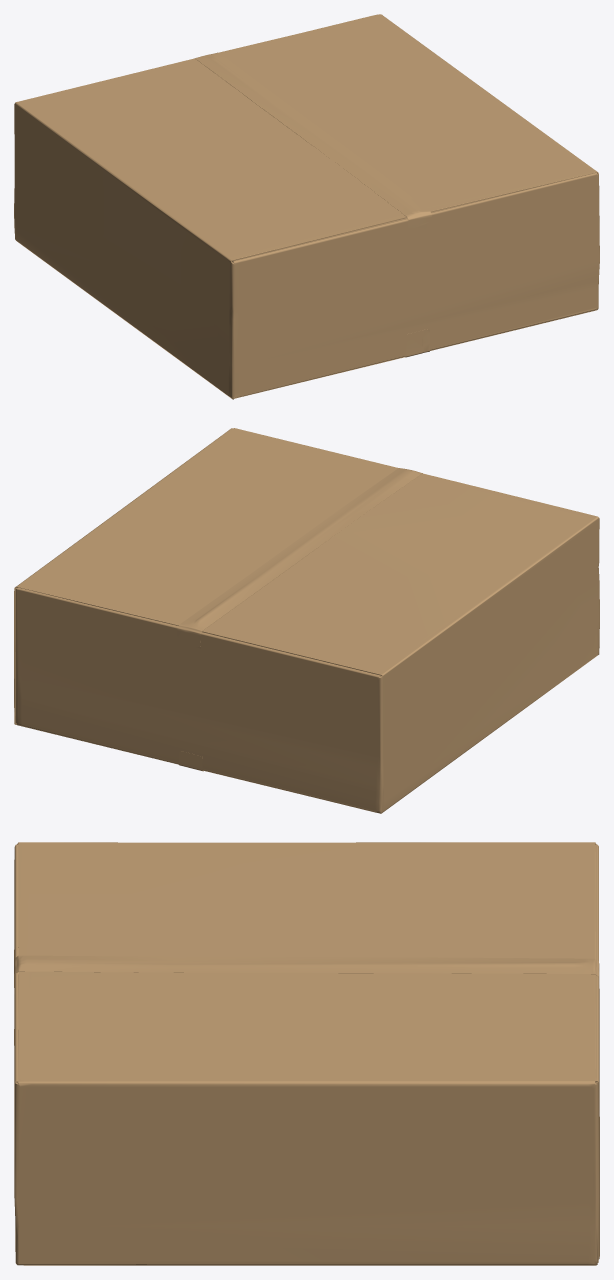
Rendered from box_flat_brown_b12.glb.
The picture shows the model from 3 angles, top to bottom: view 1: azimuth 30°, elevation 25°; view 2: azimuth 150°, elevation 25°; view 3: azimuth 270°, elevation 25°; orthographic projection. The views are drawn at different scales.
Size of the model in its own units: 0.5601 by 0.2053 by 0.5772.
